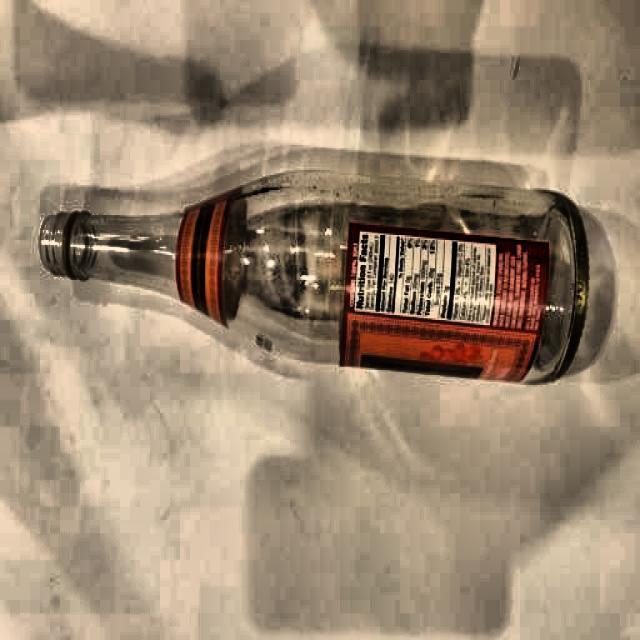glass: (33, 167, 588, 394)
